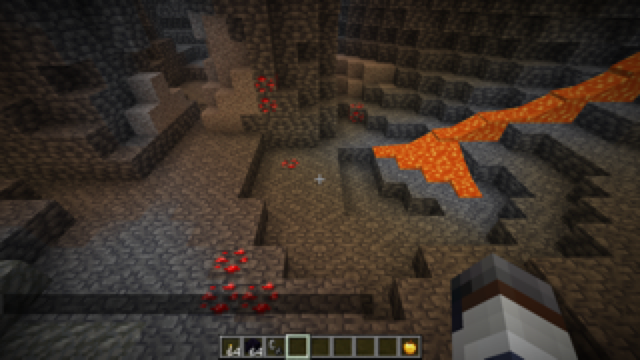redstone: (199, 249, 279, 313), (255, 72, 279, 113), (349, 103, 368, 123), (280, 157, 300, 171)
